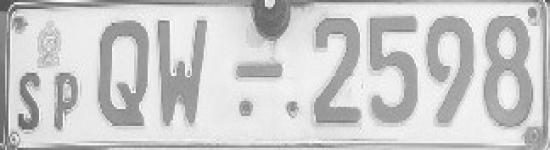-: (235, 58, 286, 86)
2: (309, 12, 364, 129)
5: (367, 12, 419, 131)
8: (483, 12, 537, 138)
9: (424, 14, 478, 133)
P: (52, 70, 83, 132)
Q: (97, 13, 151, 130)
S: (15, 73, 46, 135)
W: (154, 12, 212, 127)
